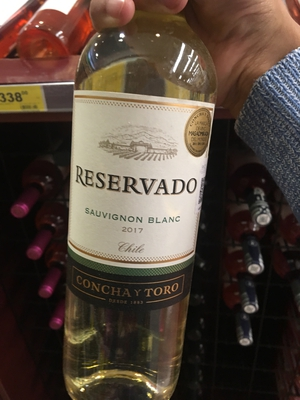reservado sauvignon blanc: (54, 14, 208, 400)
